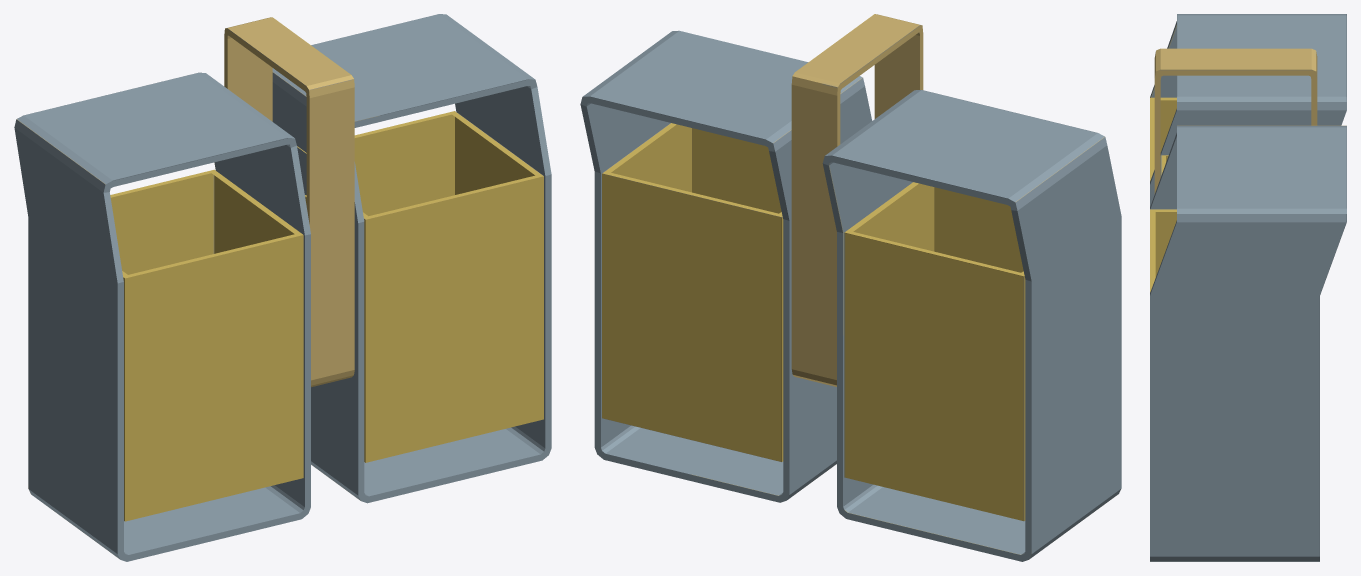
Rendered from park trash bins.obj.
3 renders of one model, left to right at view 1: azimuth 30°, elevation 25°; view 2: azimuth 150°, elevation 25°; view 3: azimuth 270°, elevation 25°, orthographic. The views are drawn at different scales.
Parts seen in each view (by area): view 1: Trash_beens; view 2: Trash_beens; view 3: Trash_beens.
Boxes of the visible parts, x1,y1,x2,y2 form: Trash_beens: (14,14,551,561); Trash_beens: (580,14,1121,561); Trash_beens: (1150,14,1346,561).
Bounding box in the file's own units: 5.62 × 5.28 × 2.32.
Materials: 3 (3 with a texture image).
